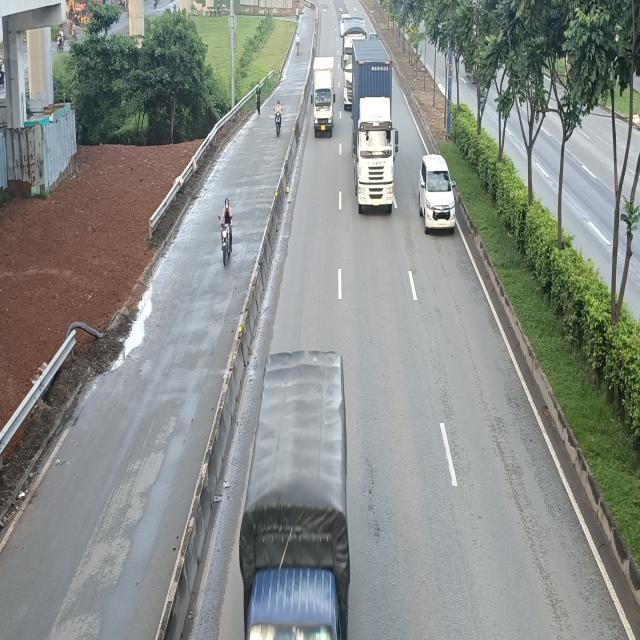car: (418, 156, 456, 236)
container: (350, 42, 398, 216)
truck: (238, 354, 352, 640), (312, 56, 336, 138)
